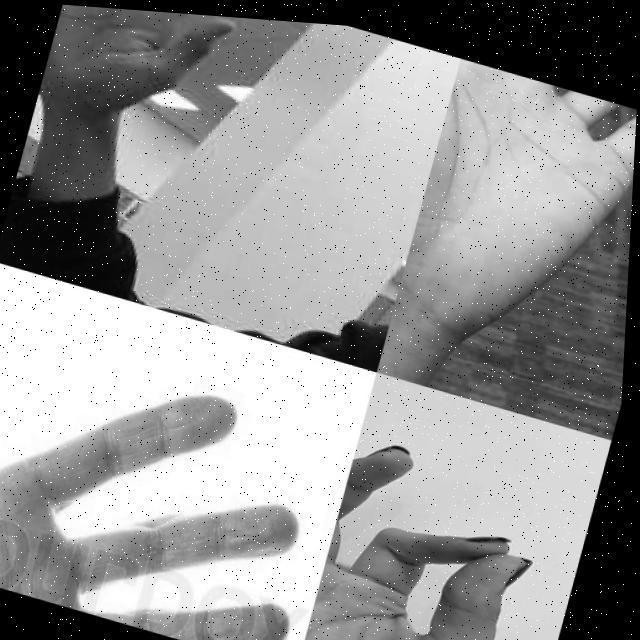no-gloves: (0, 310, 351, 640), (392, 46, 640, 368), (302, 423, 574, 640), (38, 2, 240, 132)
